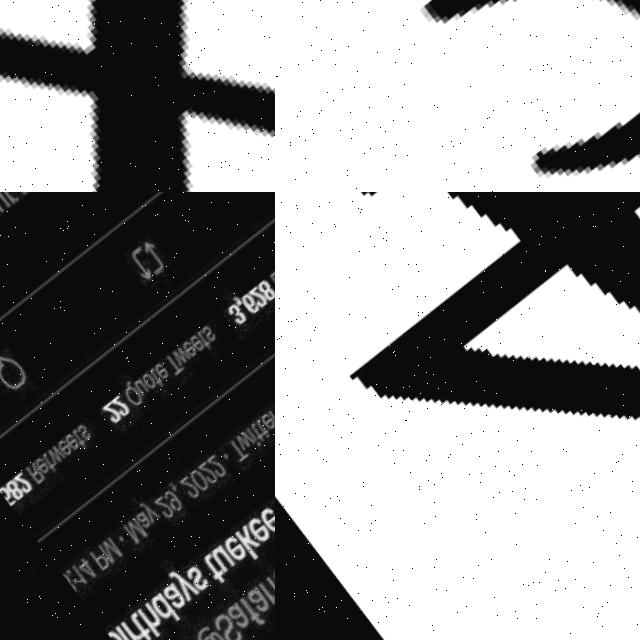0: (79, 556, 106, 585)
1: (3, 485, 22, 507)
2: (242, 293, 265, 317)
3: (275, 0, 640, 192)
4: (7, 477, 31, 503), (256, 279, 275, 305), (68, 573, 84, 593)
5: (165, 487, 192, 516)
X: (0, 0, 275, 192)
